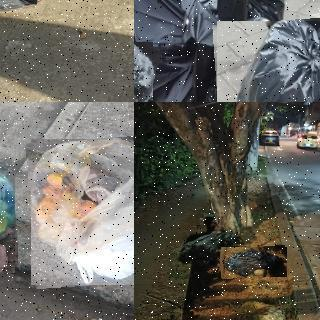Garbage: (28, 136, 134, 287), (214, 19, 320, 102), (221, 246, 287, 278), (134, 39, 157, 102)
